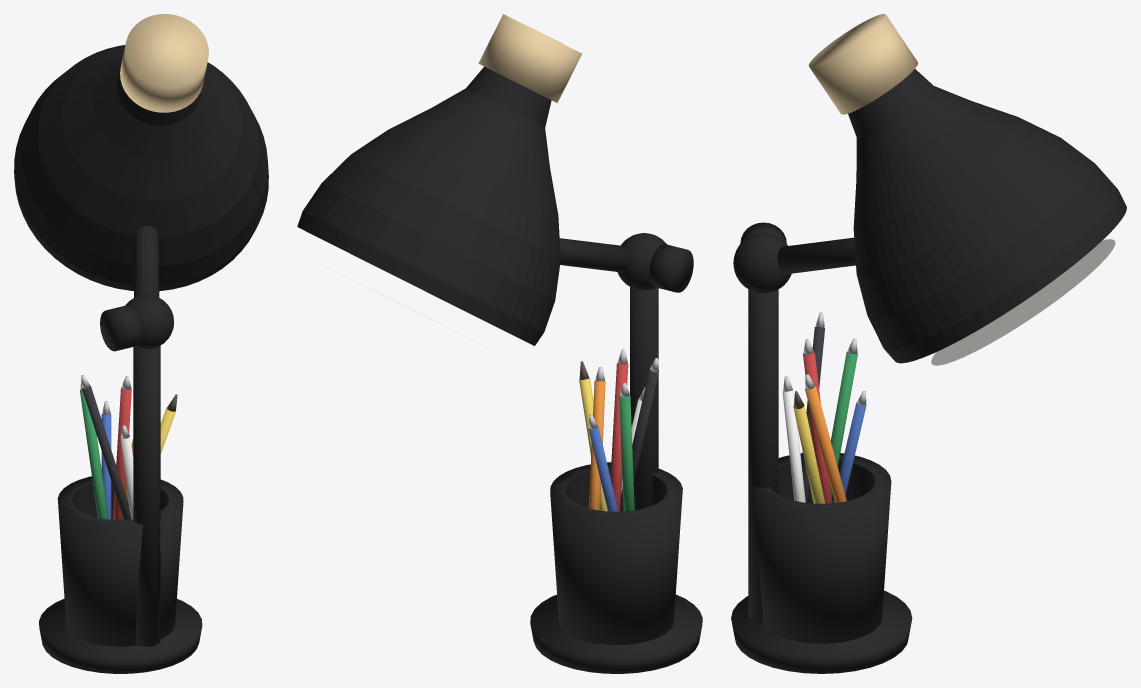
File: lamp.glb
3 views of the same model, side by side, from view 1: azimuth 30°, elevation 25°; view 2: azimuth 150°, elevation 25°; view 3: azimuth 270°, elevation 25° (orthographic). The views are drawn at different scales.
Parts seen in each view (by area): view 1: Lamp_Shade, Lamp_Cup, Arm_Post, Lamp_WoodCap, Lamp_BaseDisc, Arm_Upper, Joint_Knuckle, Joint_Knob, Pen_3, Pen_0, Pen_5, Pen_2 (+1 smaller); view 2: Lamp_Shade, Lamp_Cup, Lamp_BaseDisc, Lamp_WoodCap, Arm_Post, Arm_Upper, Joint_Knob, Joint_Knuckle, Pen_0, Pen_5, Pen_1, Pen_3 (+2 smaller); view 3: Lamp_Shade, Lamp_Cup, Arm_Post, Lamp_BaseDisc, Lamp_WoodCap, Lamp_ShadeInner, Joint_Knuckle, Arm_Upper, Pen_1, Pen_2, Pen_0, Pen_4 (+3 smaller).
Boxes of the visible parts, x1,y1,x2,y2 form: Lamp_Shade: (14, 45, 268, 291); Lamp_Cup: (57, 476, 183, 646); Arm_Post: (133, 345, 160, 646); Lamp_WoodCap: (120, 14, 208, 112); Lamp_BaseDisc: (39, 598, 202, 673); Arm_Upper: (133, 226, 159, 297); Joint_Knuckle: (125, 294, 173, 348); Joint_Knob: (100, 305, 142, 351); Pen_3: (82, 385, 131, 520); Pen_0: (80, 390, 108, 519); Pen_5: (113, 387, 131, 520); Pen_2: (120, 436, 133, 519); Lamp_Shade: (297, 66, 560, 345); Lamp_Cup: (550, 462, 682, 644); Lamp_BaseDisc: (530, 594, 702, 673); Lamp_WoodCap: (478, 14, 581, 102); Arm_Post: (630, 287, 658, 510); Arm_Upper: (559, 238, 631, 272); Joint_Knob: (649, 244, 693, 292); Joint_Knuckle: (617, 233, 666, 290); Pen_0: (619, 394, 634, 511); Pen_5: (610, 363, 628, 511); Pen_1: (589, 380, 605, 510); Pen_3: (620, 369, 658, 511); Lamp_Shade: (848, 69, 1126, 363); Lamp_Cup: (753, 453, 891, 643); Arm_Post: (748, 289, 778, 622); Lamp_BaseDisc: (731, 590, 912, 673); Lamp_WoodCap: (808, 14, 917, 114); Lamp_ShadeInner: (931, 239, 1115, 365); Joint_Knuckle: (733, 233, 791, 293); Arm_Upper: (777, 237, 855, 274); Pen_1: (805, 385, 846, 502); Pen_2: (782, 390, 805, 502); Pen_0: (830, 351, 857, 498); Pen_4: (793, 403, 825, 503).
Size of the model in its own units: 0.3104 by 0.6196 by 0.3406.
